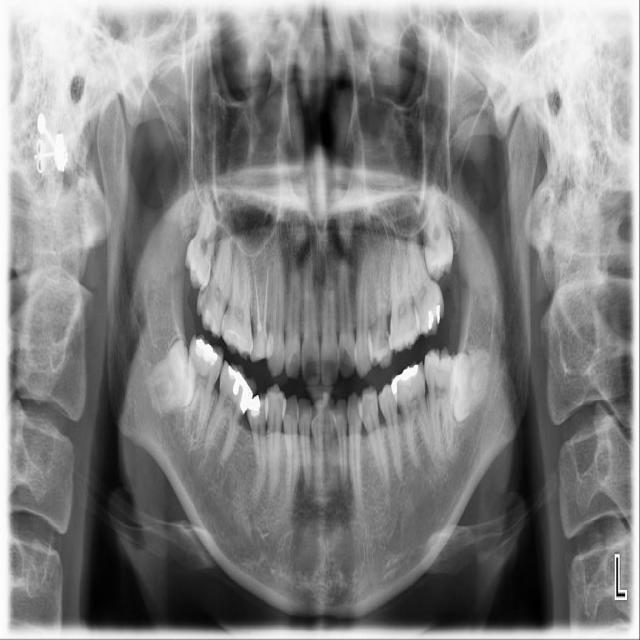Filling: (226, 365, 253, 415), (391, 362, 420, 400), (250, 327, 274, 363), (197, 302, 223, 334), (191, 337, 219, 364), (421, 304, 444, 332), (223, 329, 250, 352), (246, 394, 266, 416)
Root Canal Treatment: (262, 263, 269, 328), (255, 264, 261, 321)
impacted tooth: (144, 340, 197, 413), (185, 186, 217, 289), (449, 349, 490, 419), (425, 185, 452, 275)
